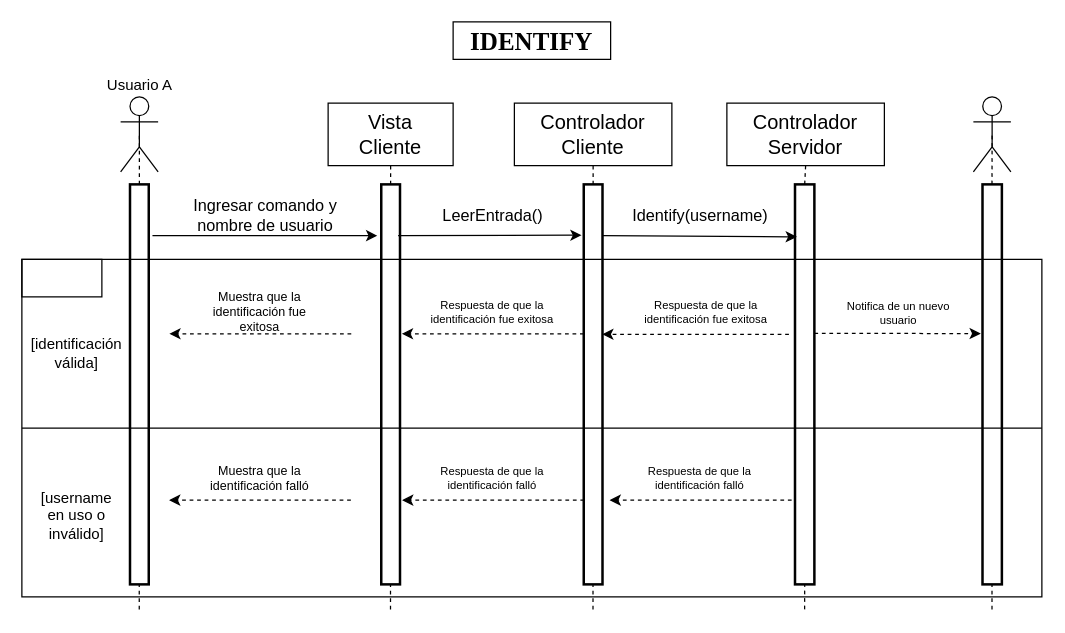
Some shapes in this 1065 by 633 pixel diagram are drawn without their labels. The centre of each missing label's shape, as x and y in pixels:
"alt" goes at [61,277].
"Usuario B" goes at [991,134].
